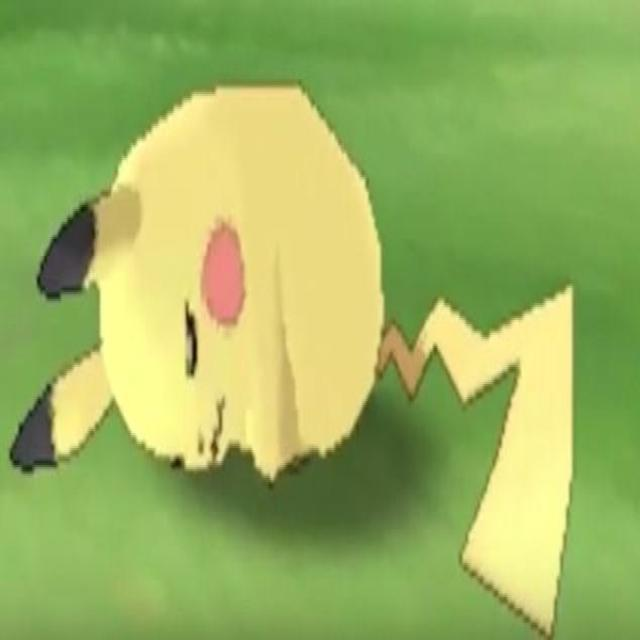pikachu: (9, 84, 574, 640)
